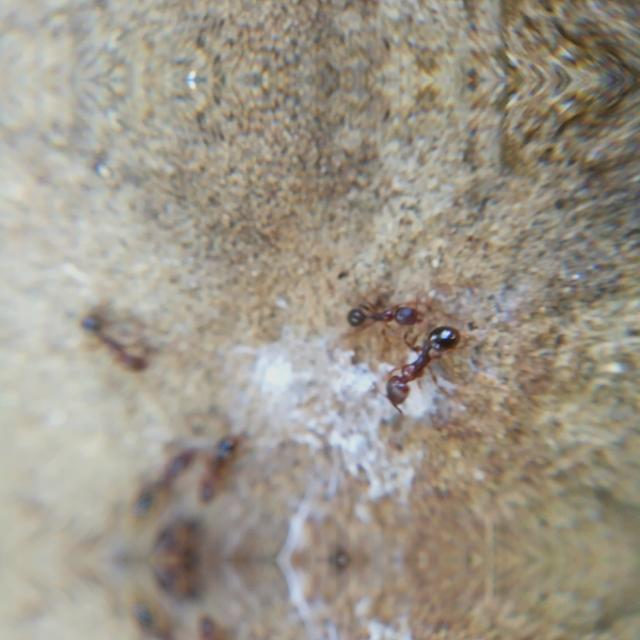Apheanogaster: (367, 316, 475, 414), (69, 305, 161, 381), (119, 437, 200, 521), (188, 431, 255, 512), (334, 292, 428, 334), (118, 598, 198, 640), (186, 608, 254, 640)
